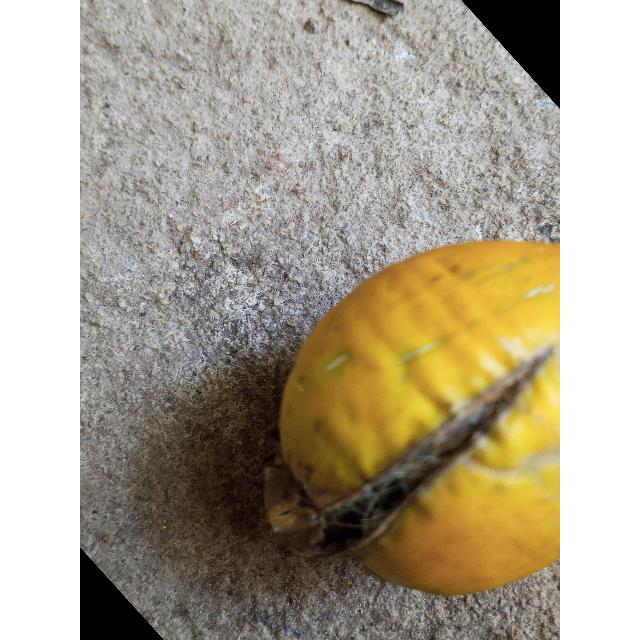damaged: (273, 240, 560, 599)
